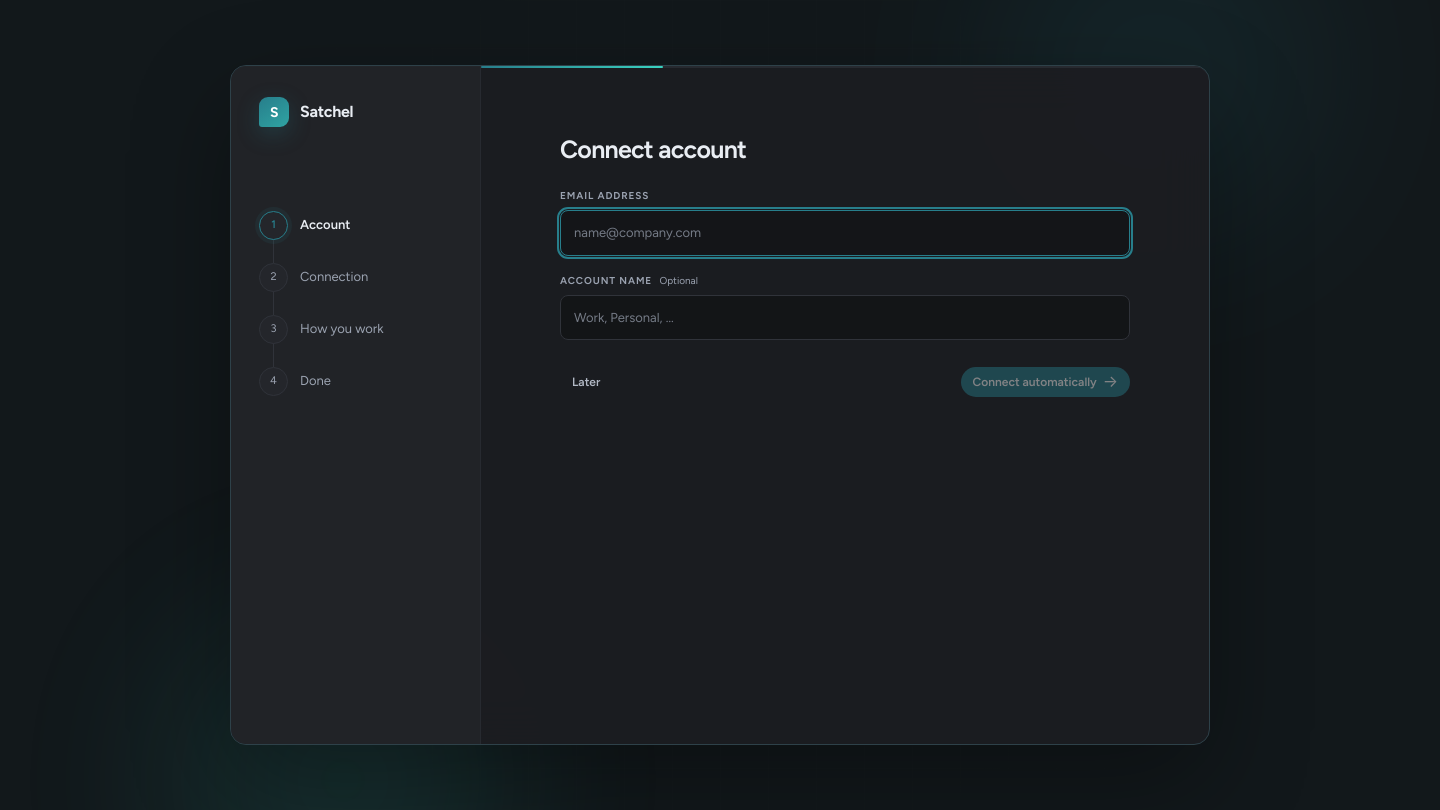
Test: company domains behind Google Workspace or Microsoft 365 › names Microsoft 365 for a domain on Exchange Online
In the field labelled "Email address": {"x": 845, "y": 233} [560,210,1130,256], type "anna@contoso.example"
Wait 400 ms
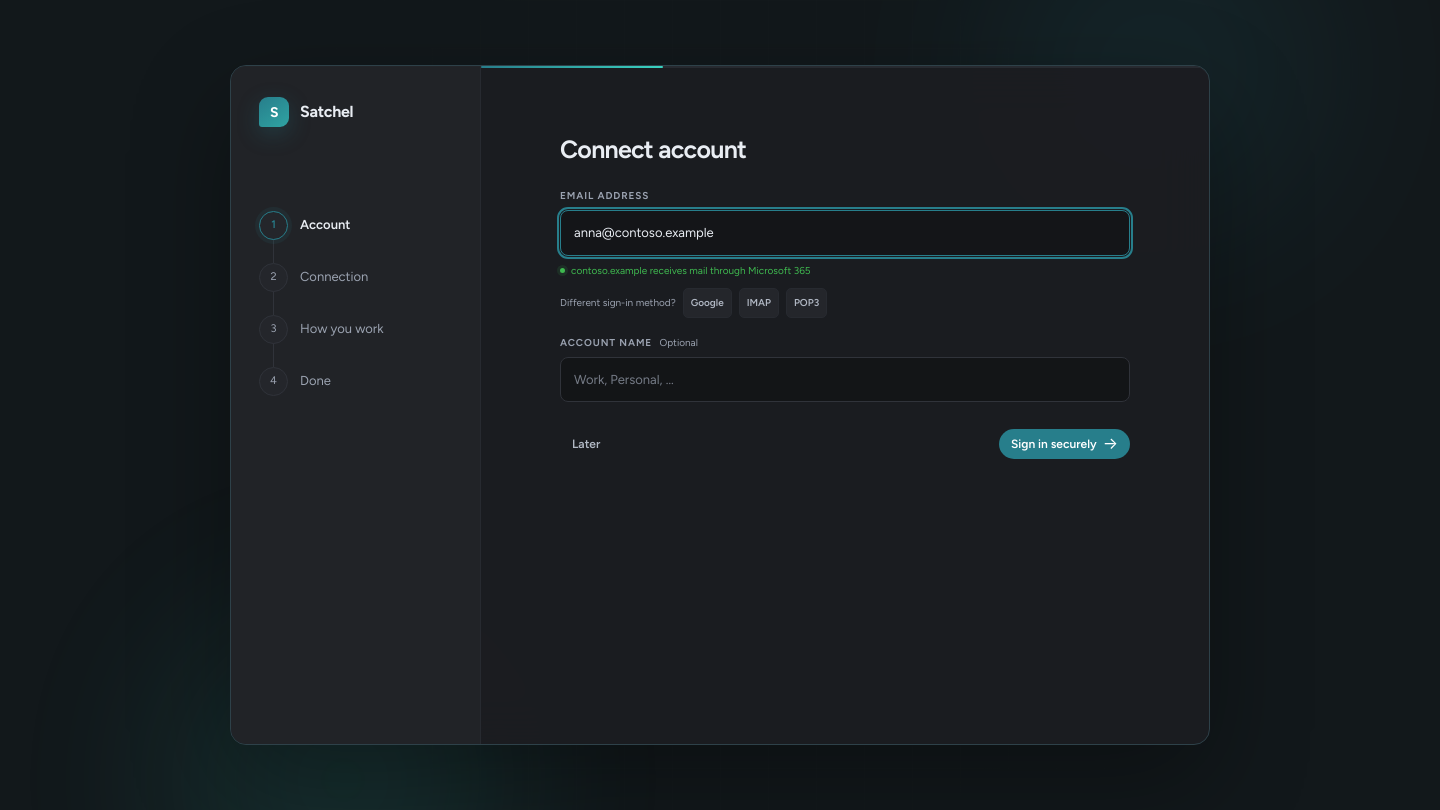
Expected: the text "contoso.example receives mail through Microsoft 365" is shown, [560,264,811,276]
